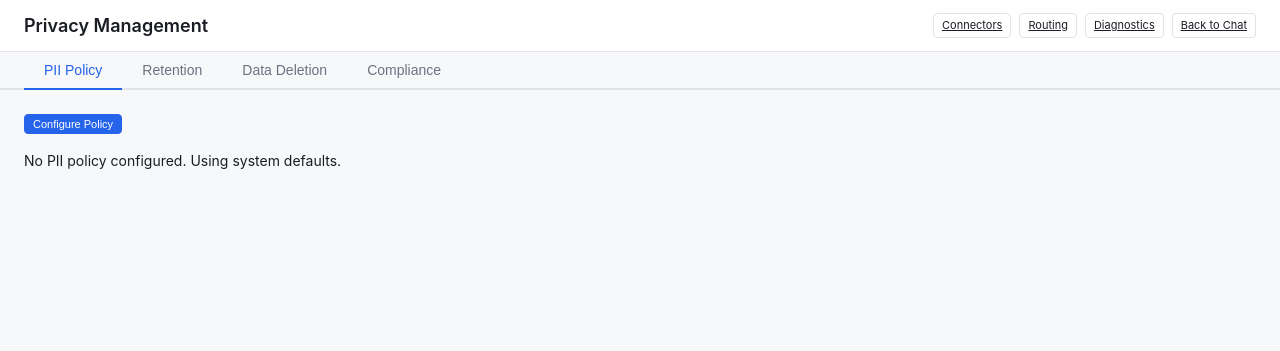
Scenario: PrivacyAdminPage › switches to compliance tab
Click the button "Compliance". click: (404, 71)
box: [347,52,461,90]
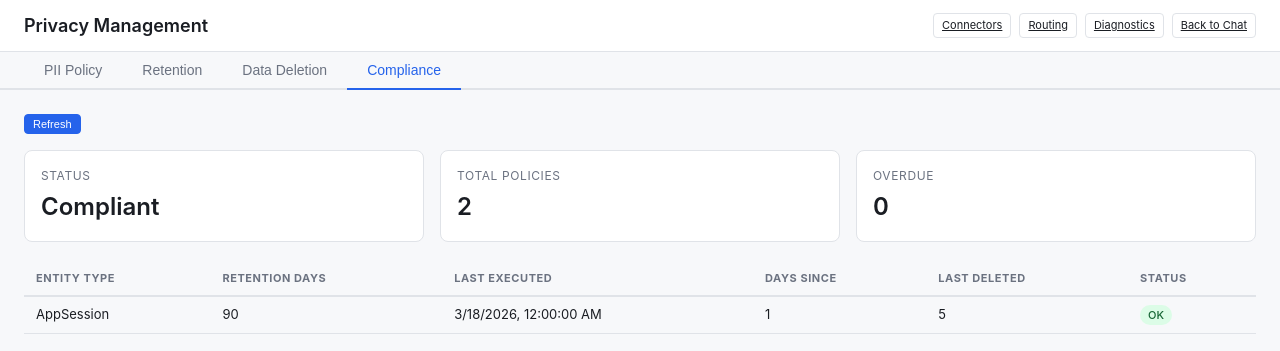
Expected: the text "Compliant" is shown, [41,192,159,221]
Expected: the text "OK" is shown, [1140,304,1172,325]
